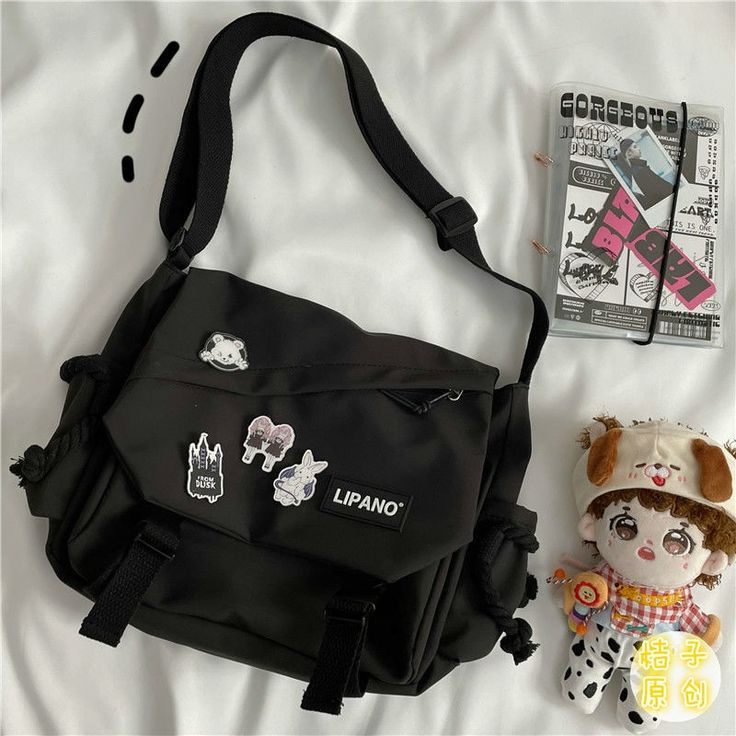nylon: (10, 266, 546, 720)
